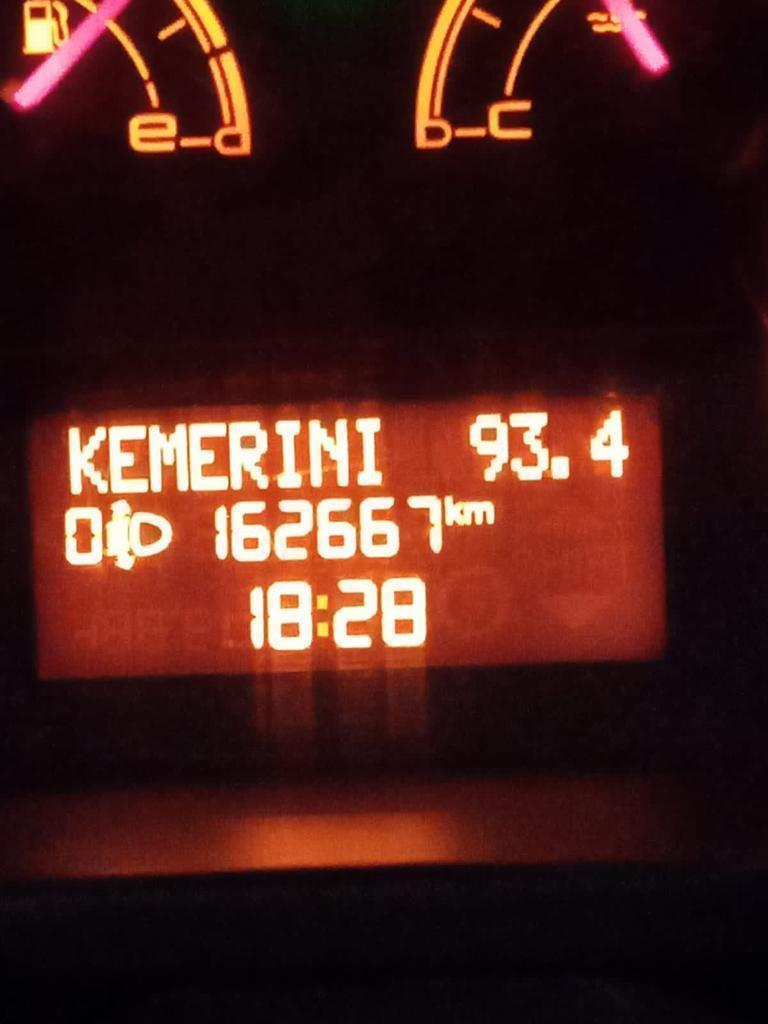,: (549, 454, 571, 481)
0: (63, 503, 105, 566)
1: (247, 585, 265, 649), (212, 502, 229, 561)
2: (332, 578, 377, 649), (271, 496, 313, 562)
3: (510, 409, 551, 482)
4: (586, 407, 631, 479)
6: (229, 498, 271, 564), (358, 495, 399, 558), (315, 497, 356, 559)
7: (405, 493, 443, 554)
8: (381, 576, 428, 649), (267, 579, 313, 652)
9: (466, 412, 510, 484)
X: (227, 418, 270, 492), (307, 417, 350, 490), (147, 421, 190, 493), (187, 419, 229, 491), (68, 425, 109, 496), (108, 423, 149, 494), (272, 418, 305, 490), (354, 414, 385, 487), (313, 591, 331, 638), (462, 500, 494, 526), (443, 493, 462, 527)
odometer: (24, 394, 683, 689)
